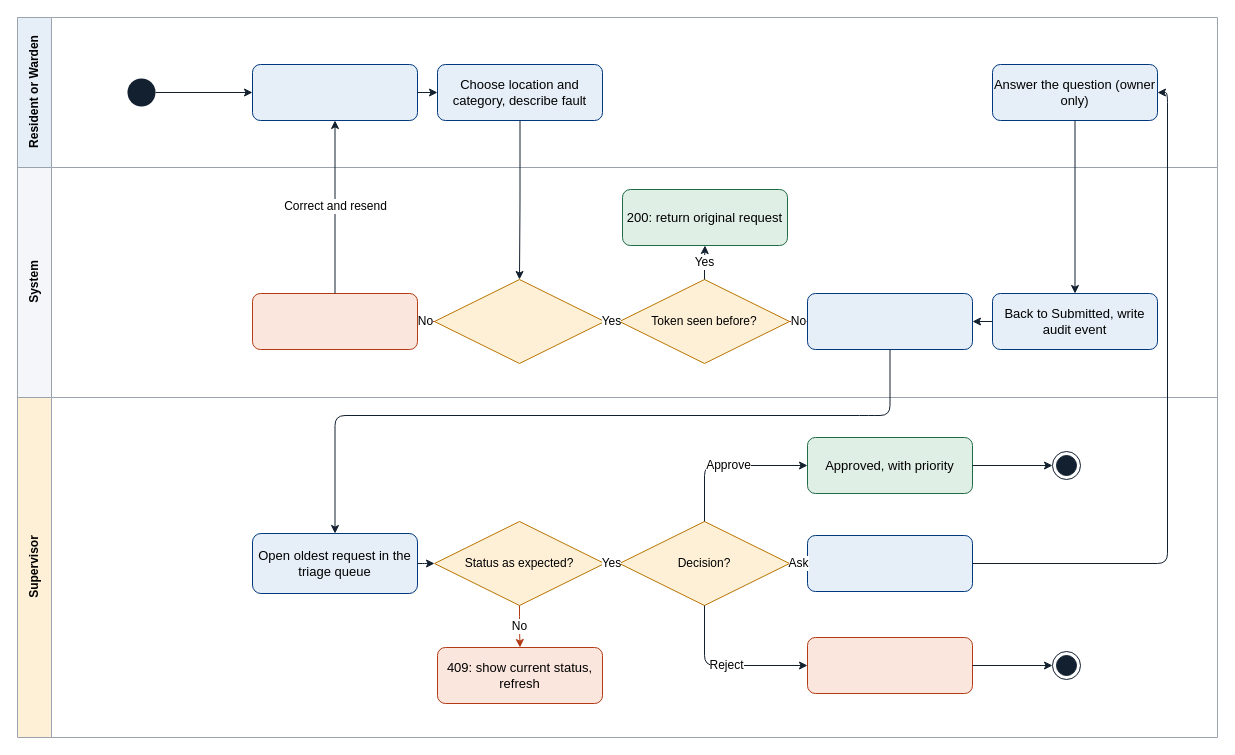
The diagram is 1235 pixels wide and 755 high, and some of its shapes have lost their labels. The centre of each missing label's shape, as x and y in pixels:
422: field errors: the point at 335,321
Needs Clarification, question sent: the point at 889,563
Open form and read the emergency notice: the point at 335,92
Rejected, reason shown (final): the point at 889,665
Store as Submitted, write audit event: the point at 889,321
Valid input?: the point at 519,321
